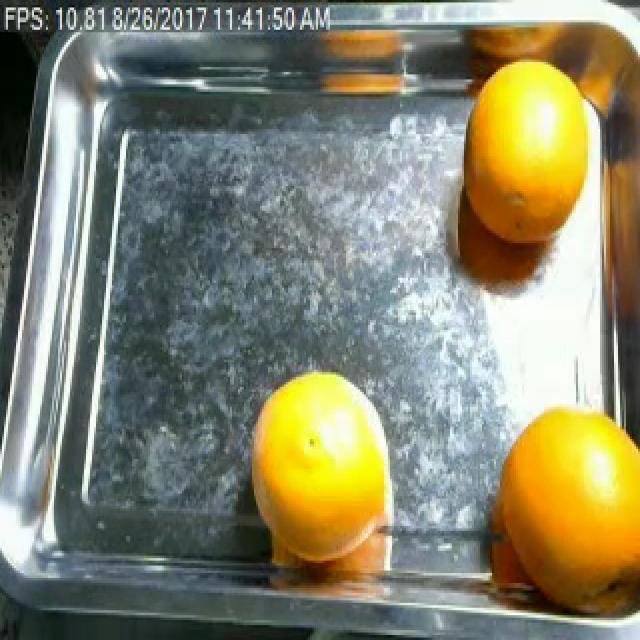Fruit: (236, 357, 396, 548)
